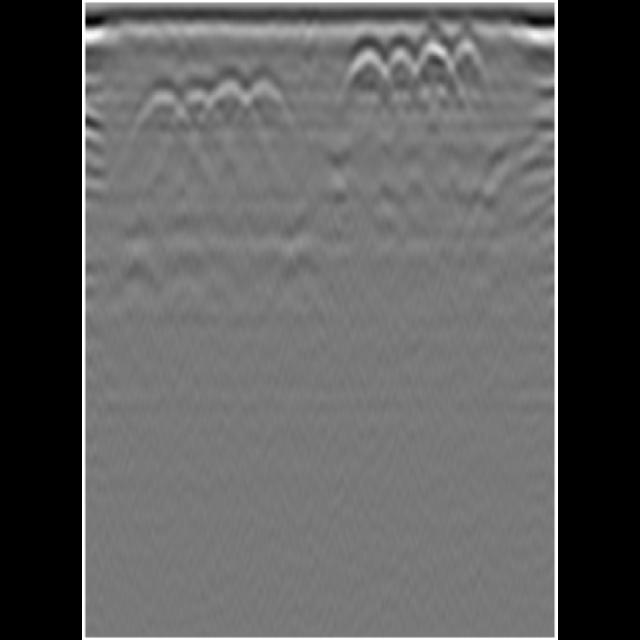hyperbola: (202, 75, 252, 131), (170, 79, 216, 139), (134, 81, 182, 133), (240, 77, 288, 129), (348, 41, 392, 89), (443, 41, 492, 83), (412, 41, 454, 89), (382, 41, 421, 91)
